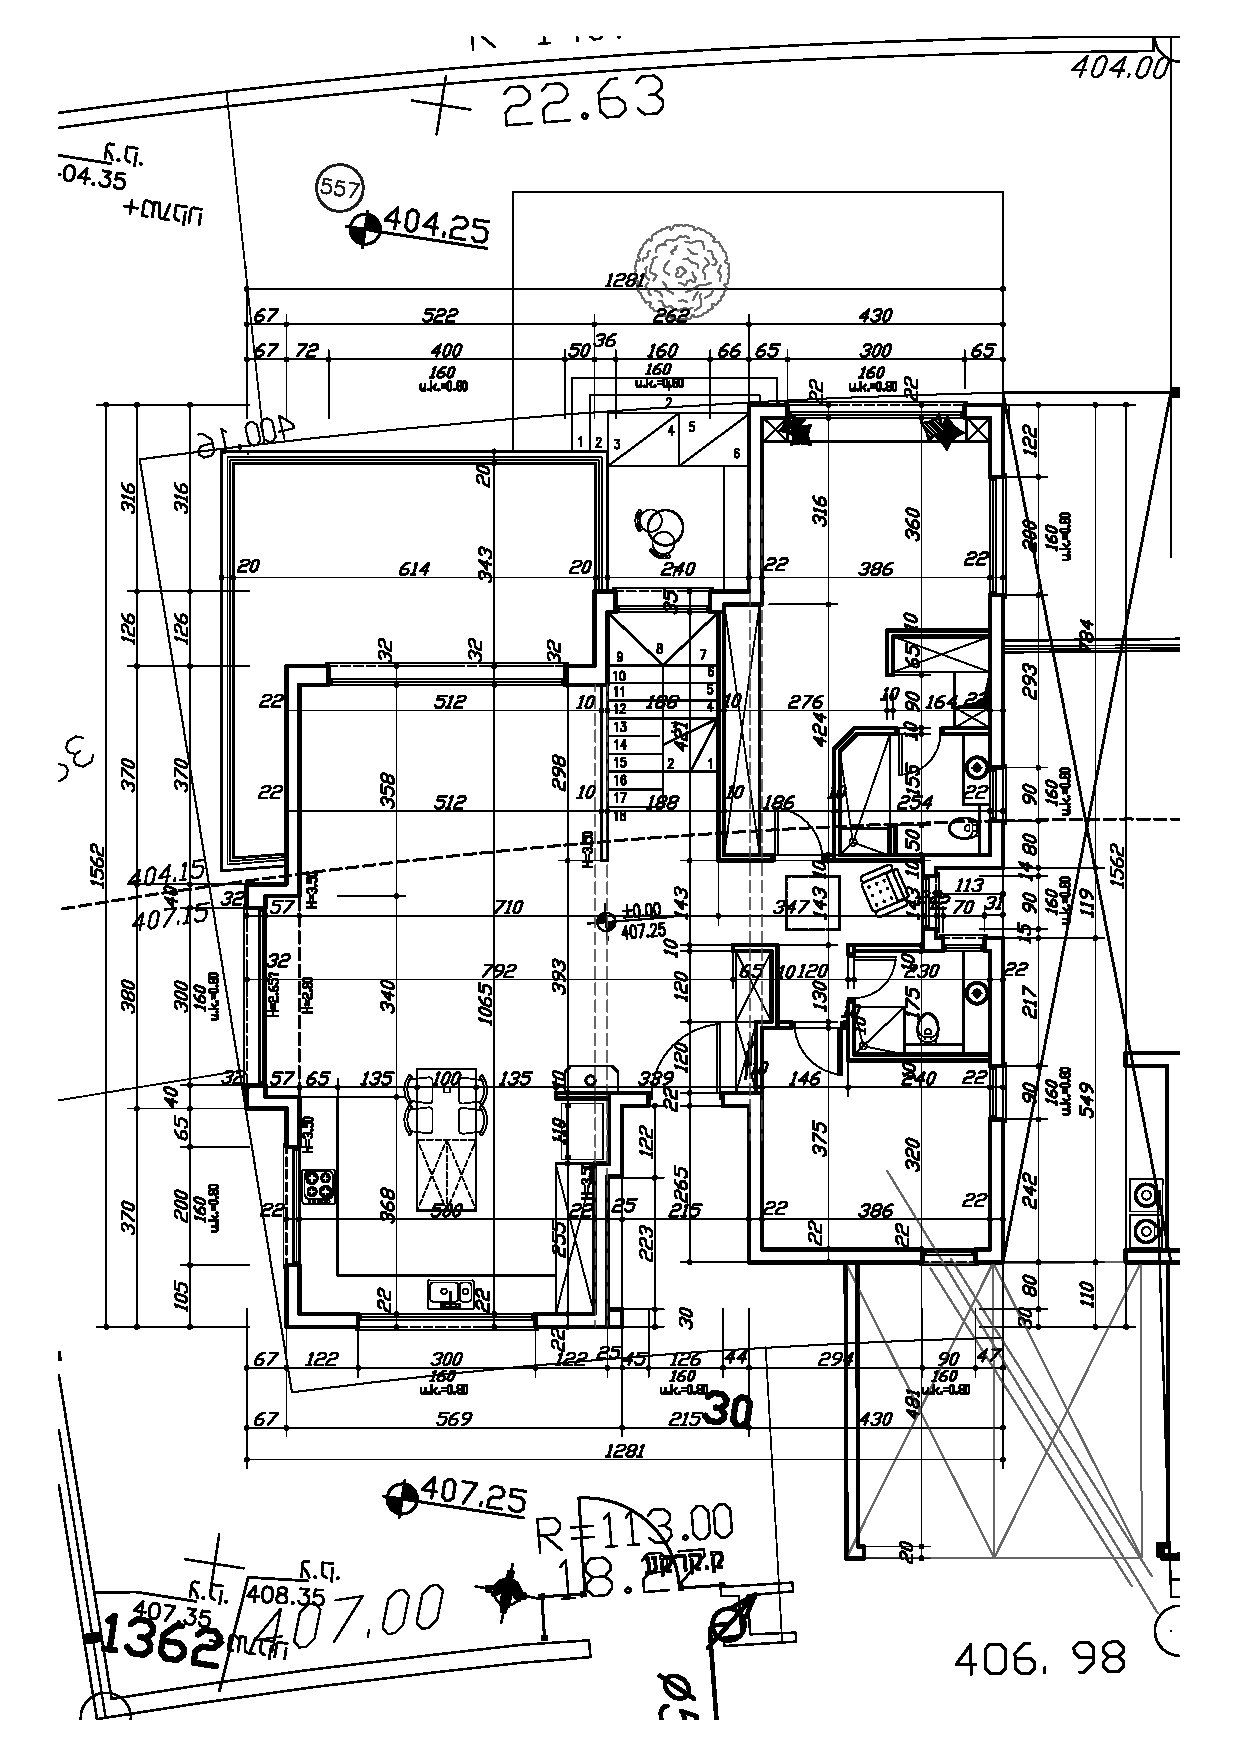door: (640, 1020, 723, 1088), (789, 1029, 845, 1082), (770, 800, 821, 854), (894, 737, 942, 778)
window: (326, 662, 564, 686), (786, 399, 964, 420), (356, 1312, 535, 1333), (613, 586, 713, 613), (988, 474, 1006, 595), (285, 1145, 302, 1267), (986, 1063, 1006, 1122), (988, 766, 1008, 825), (921, 1245, 977, 1264)
